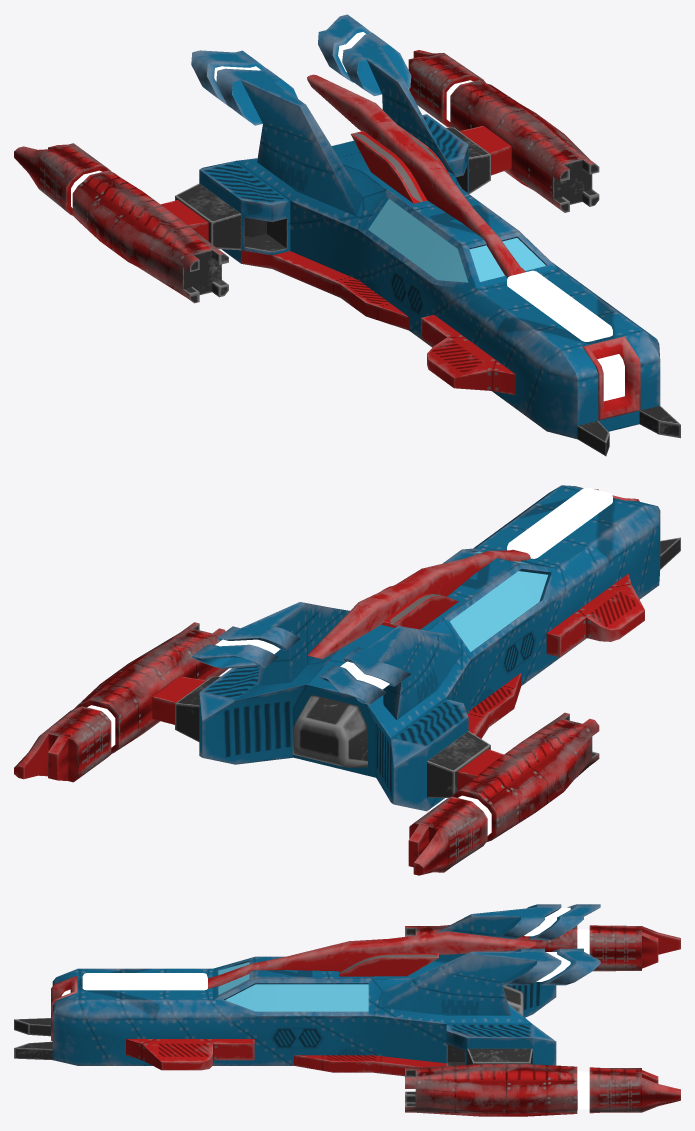
Rendered from Gunnerelixer.fbx.
3 renders of one model, top to bottom at view 1: azimuth 30°, elevation 25°; view 2: azimuth 150°, elevation 25°; view 3: azimuth 270°, elevation 25°, orthographic. The views are drawn at different scales.
Parts seen in each view (by area): view 1: Gunnerelixer; view 2: Gunnerelixer; view 3: Gunnerelixer.
Part boxes in pixels (x1,y1,x2,y2): Gunnerelixer: (14, 14, 680, 456); Gunnerelixer: (14, 485, 680, 875); Gunnerelixer: (14, 904, 680, 1116).
Bounding box in the file's own units: 150 × 50.95 × 253.
